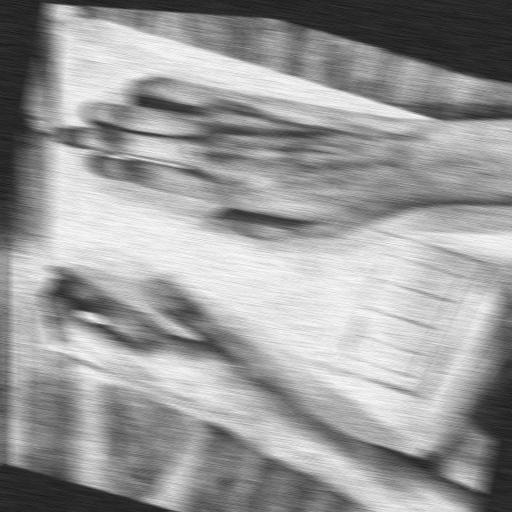bottom_right: (410, 452, 425, 459)
door: (19, 127, 503, 412)
top_left: (53, 5, 67, 12)
top_right: (36, 342, 50, 348)
